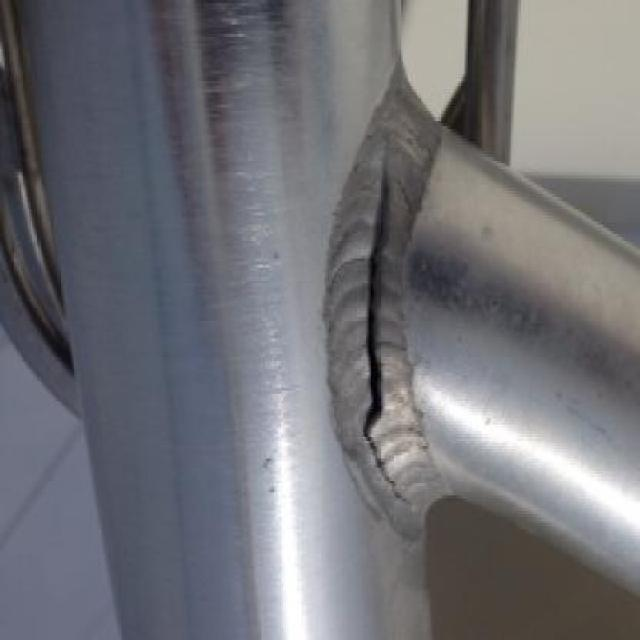crack: (364, 152, 390, 432), (371, 438, 411, 504)
